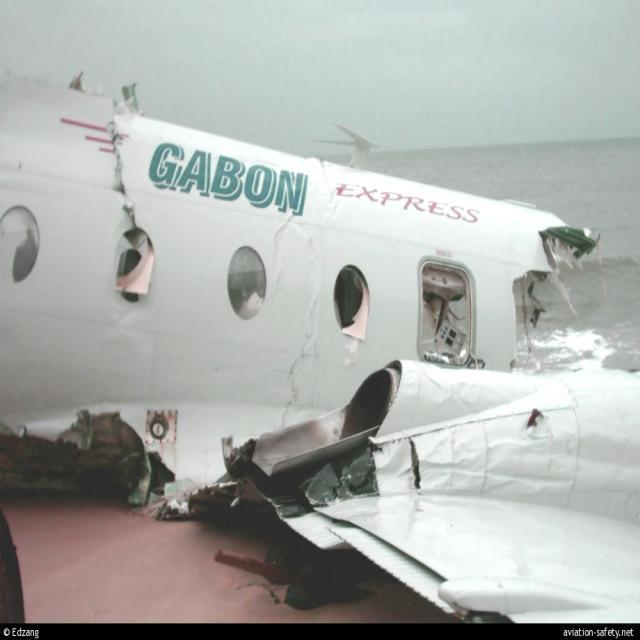crack: (279, 297, 323, 429), (107, 119, 137, 233), (408, 439, 426, 496)
dent: (425, 434, 640, 498)
